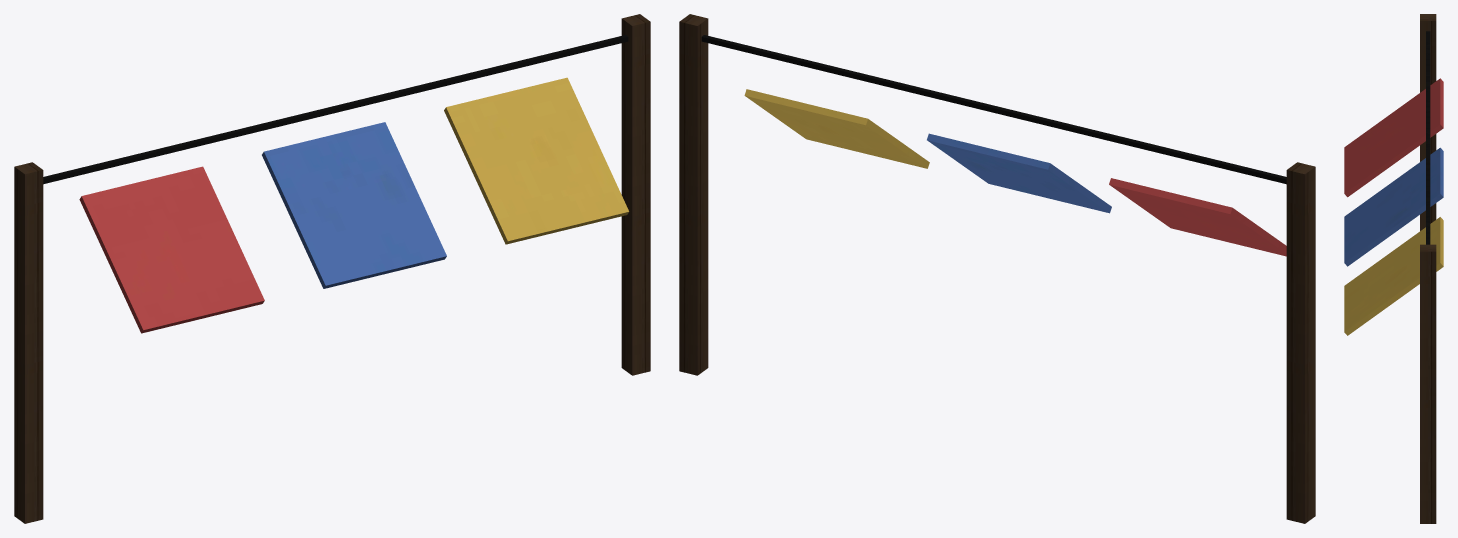
The model's file is laundry_line_01.glb.
The picture shows the model from 3 angles, left to right: view 1: azimuth 30°, elevation 25°; view 2: azimuth 150°, elevation 25°; view 3: azimuth 270°, elevation 25°; orthographic projection. The views are drawn at different scales.
Parts seen in each view (by area): view 1: laundry_line_01; view 2: laundry_line_01; view 3: laundry_line_01.
Boxes of the visible parts, left/top/right/bottom form: laundry_line_01: left=14, top=14, right=650, bottom=523; laundry_line_01: left=679, top=14, right=1315, bottom=523; laundry_line_01: left=1344, top=14, right=1443, bottom=523.
Bounding box in the file's own units: 4.12 × 2.2 × 0.7298.
5 materials, 5 textured.
